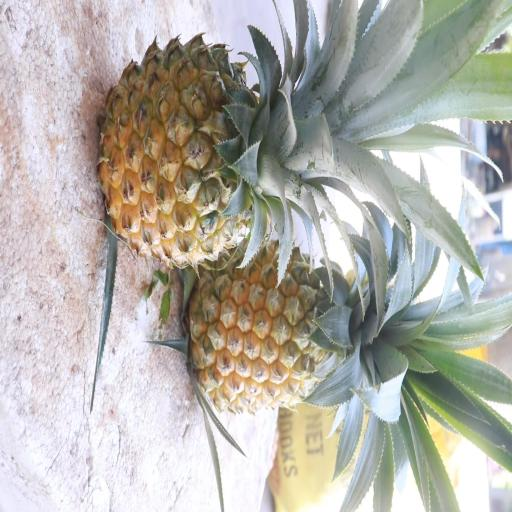Pineapple - v8 v1: (94, 27, 339, 268), (181, 231, 393, 419)
